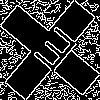E: (25, 25, 80, 81)
